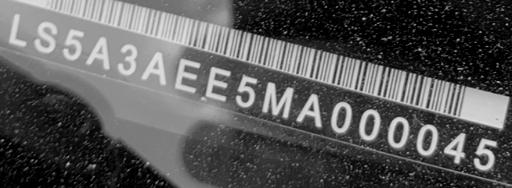letter: (258, 81, 296, 121), (138, 48, 170, 87), (293, 91, 323, 131), (82, 35, 112, 74), (171, 56, 201, 94), (204, 64, 234, 100), (328, 97, 354, 136), (60, 24, 86, 63), (114, 40, 140, 79), (233, 73, 259, 111), (5, 9, 29, 48), (356, 107, 382, 142), (414, 121, 440, 156), (441, 130, 467, 165), (472, 135, 498, 170), (32, 20, 58, 55), (386, 114, 410, 147)
